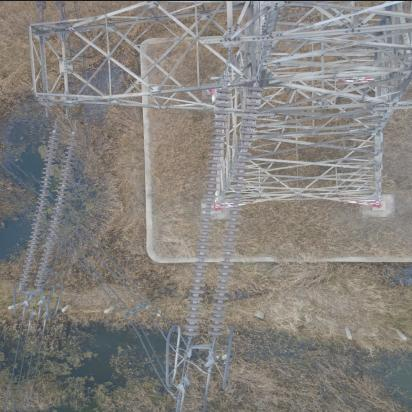insulator: (185, 68, 267, 348), (22, 117, 76, 296)
